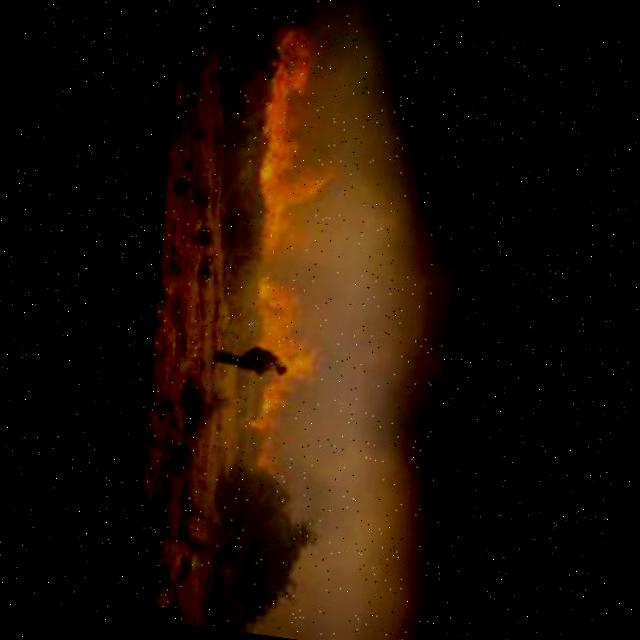fire: (239, 20, 369, 276), (231, 271, 351, 484)
